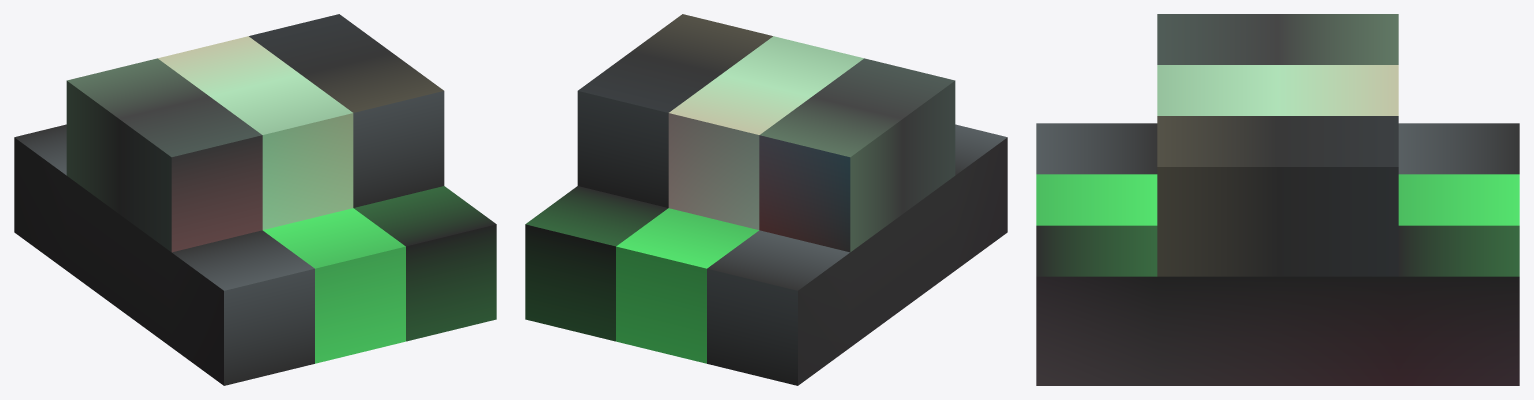
File: Cable_Connection_A_00.fbx
3 views of the same model, side by side, from view 1: azimuth 30°, elevation 25°; view 2: azimuth 150°, elevation 25°; view 3: azimuth 270°, elevation 25° (orthographic). The views are drawn at different scales.
Visible parts, largest first — view 1: Cable_Connection_A_00; view 2: Cable_Connection_A_00; view 3: Cable_Connection_A_00.
Boxes of the visible parts, left/top/right/bottom form: Cable_Connection_A_00: left=14, top=14, right=496, bottom=385; Cable_Connection_A_00: left=525, top=14, right=1007, bottom=385; Cable_Connection_A_00: left=1036, top=14, right=1519, bottom=385.
Bounding box in the file's own units: 15 × 10 × 20.
